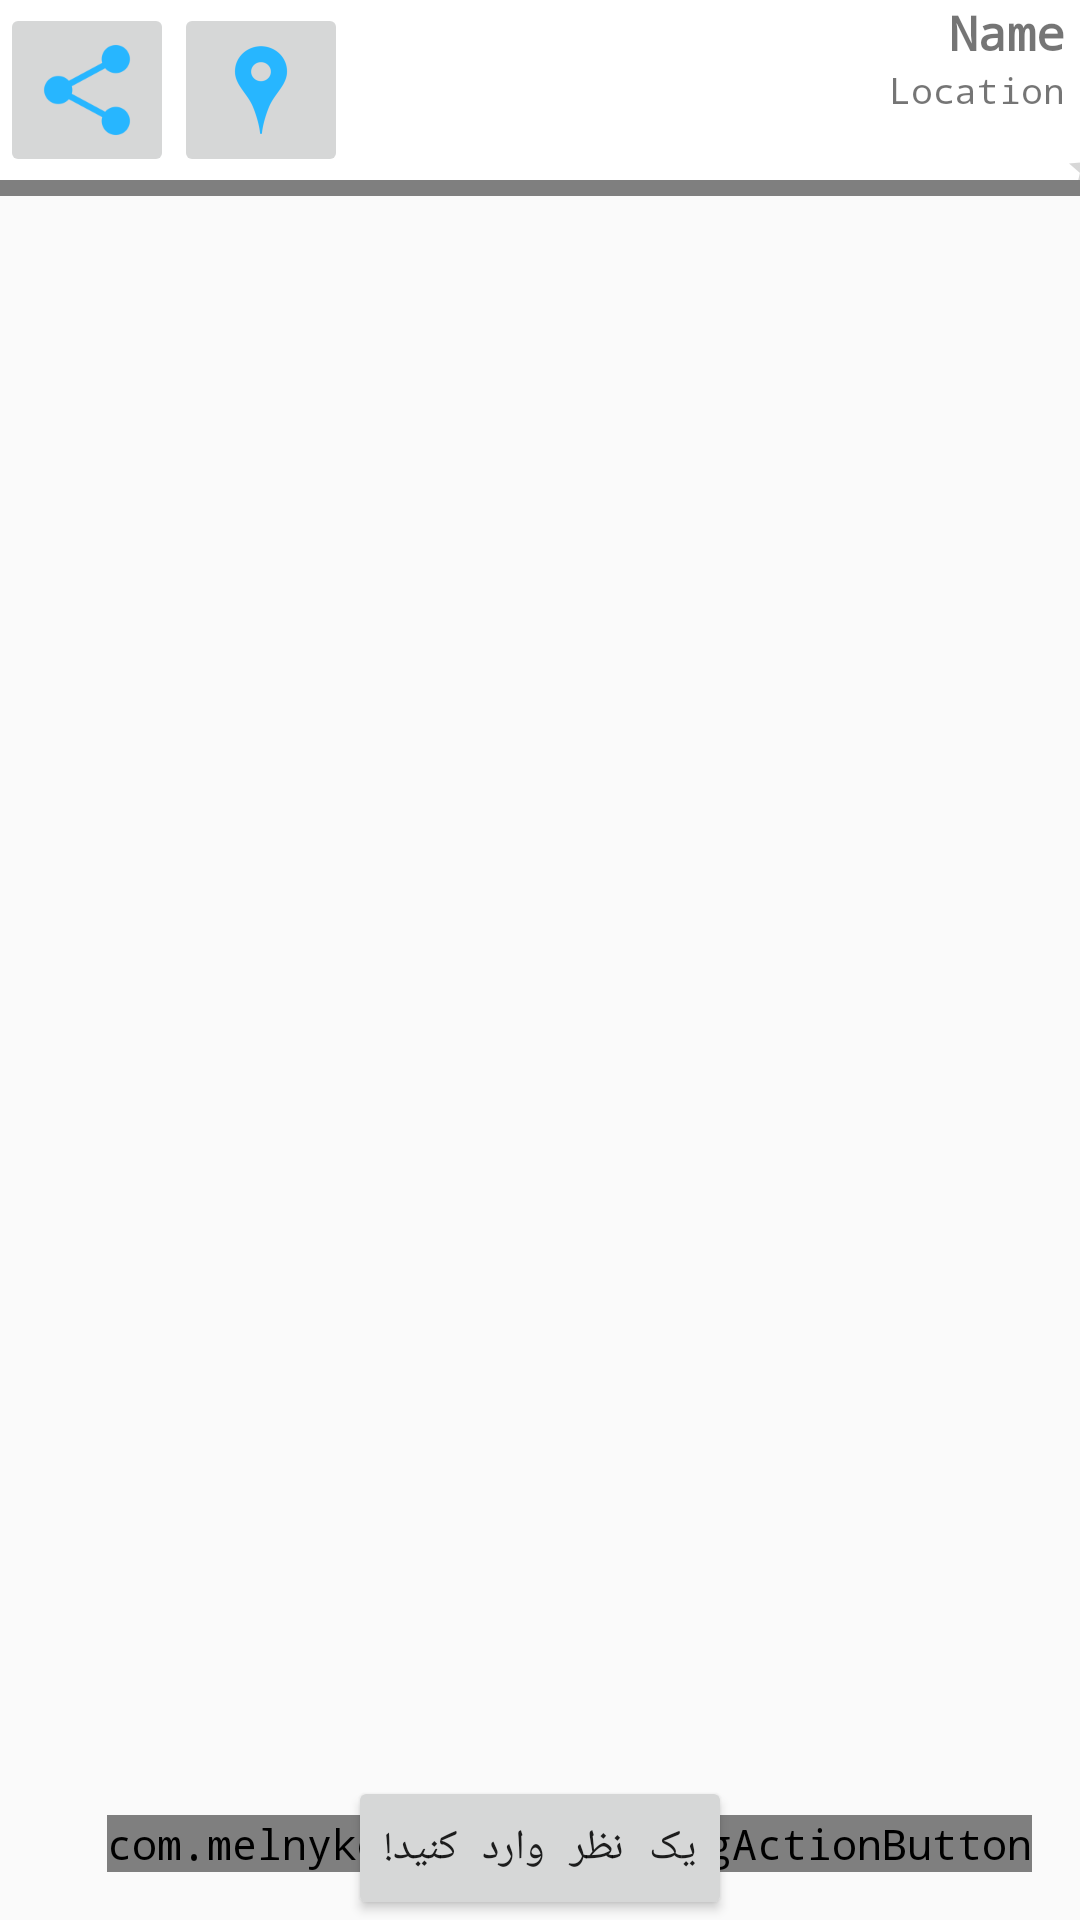

Named icons in this screenshot (1080×1920) and their bounding boxes, (x1, y1, x2, y2):
share: (12, 21, 162, 159)
